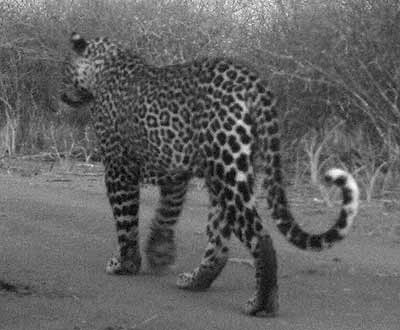leopard: (56, 33, 361, 319)
